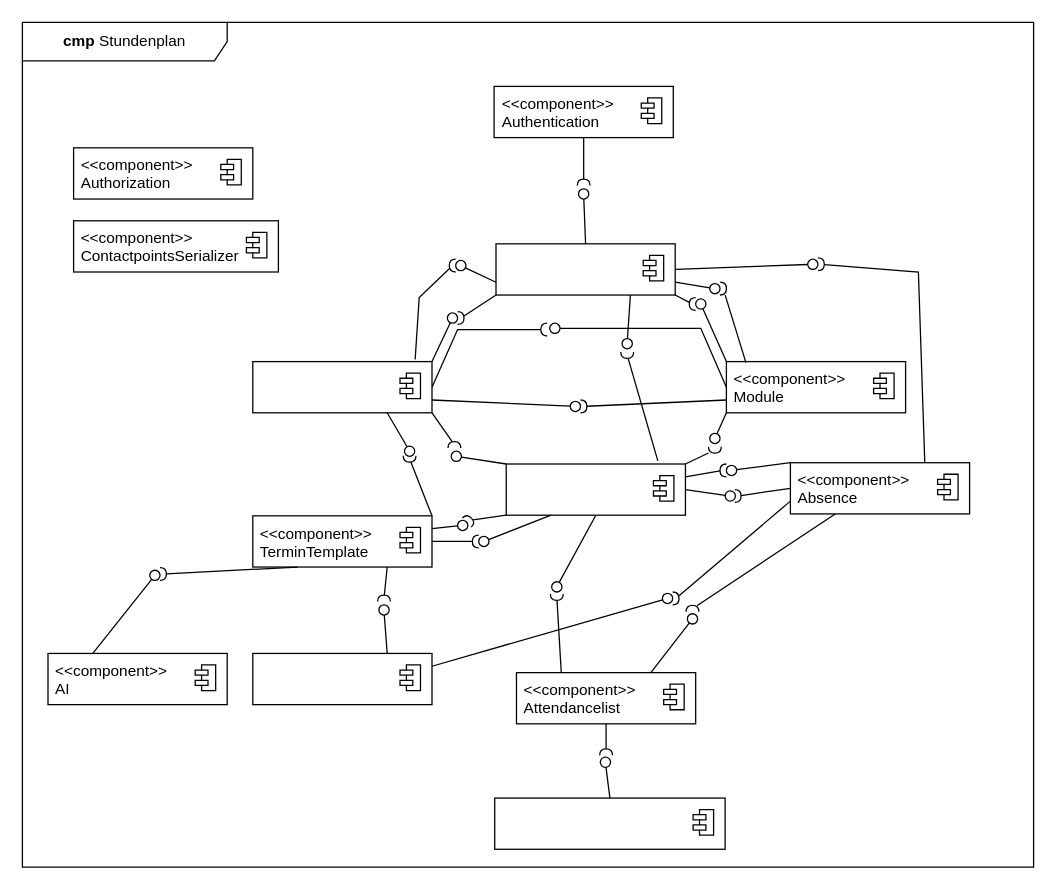
The diagram is 1056 pixels wide and 890 high, and some of its shapes have lost their labels. The centre of each missing label's shape, as x and y in pixels:
"<<component>> Mail" goes at point 342,678.
"<<component>> MongoDBCommunication" goes at point 609,823.
"<<component>> Termin" goes at point 595,489.
"<<component>> User" goes at point 585,269.
"<<component>> Veranstaltung" goes at point 342,386.
